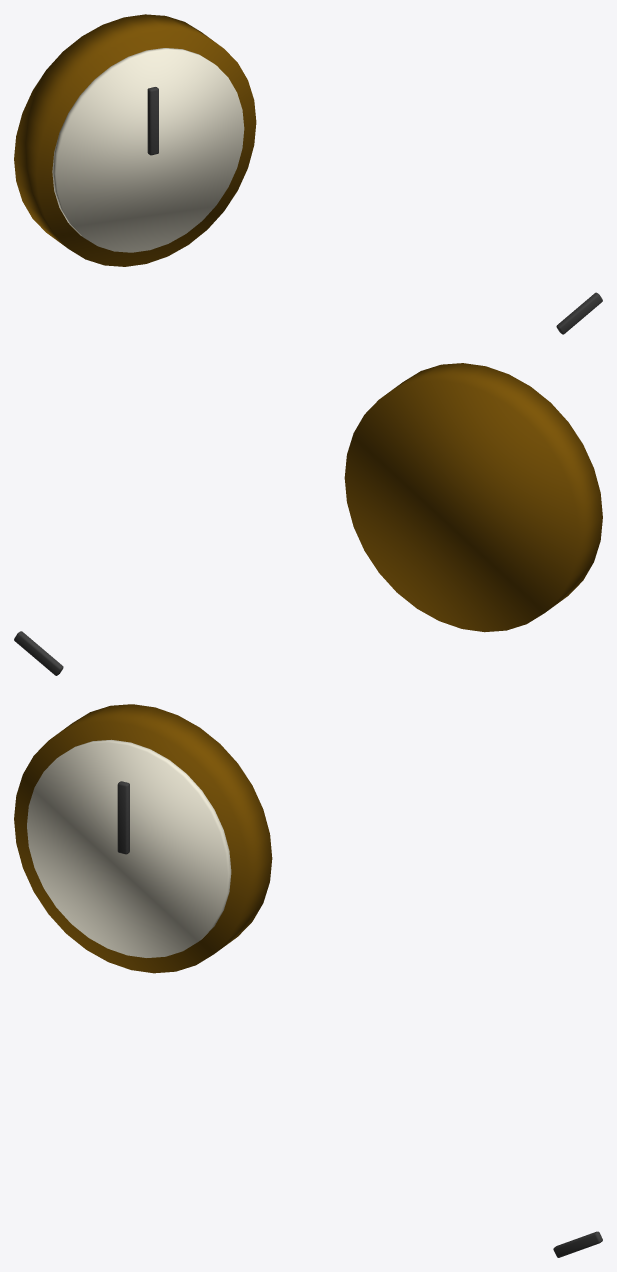
The model's file is wall_clock.glb.
3 renders of one model, top to bottom at view 1: azimuth 30°, elevation 25°; view 2: azimuth 150°, elevation 25°; view 3: azimuth 330°, elevation 25°, orthographic. The views are drawn at different scales.
Parts seen in each view (by area): view 1: Cylinder.001, Cylinder, h1, h2; view 2: Cylinder, h2; view 3: Cylinder.001, Cylinder, h1.
Boxes of the visible parts, bbox=[...] form: Cylinder.001: bbox=[52, 48, 244, 252]; Cylinder: bbox=[14, 14, 256, 266]; h1: bbox=[147, 87, 158, 155]; h2: bbox=[556, 292, 602, 334]; Cylinder: bbox=[344, 363, 602, 632]; h2: bbox=[14, 631, 63, 675]; Cylinder.001: bbox=[27, 739, 231, 957]; Cylinder: bbox=[14, 704, 272, 973]; h1: bbox=[117, 781, 129, 854].
Size of the model in its own units: 0.3557 by 0.2402 by 0.0345.
